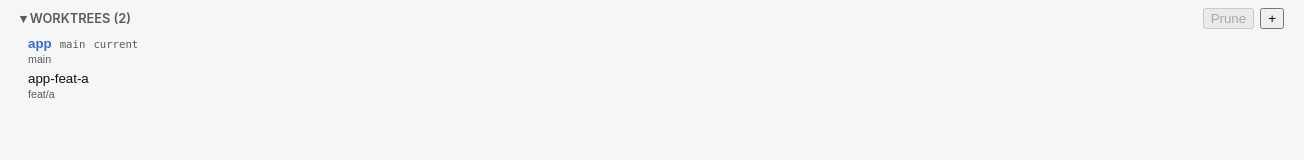
Test: WorktreesPanel open › should not open the current worktree and disable Open with Already open in this tab
Expected: the list named "Worktree list" is shown, [12, 33, 1292, 111]
Double-click the button "app main current main" at {"x": 116, "y": 44}, box [12, 33, 1292, 68]
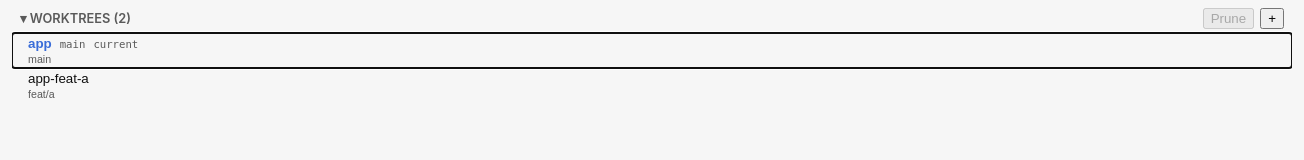
Press Enter in the button "app main current main", box [12, 33, 1292, 68]
Right-click the button "app main current main" at {"x": 116, "y": 44}, box [12, 33, 1292, 68]
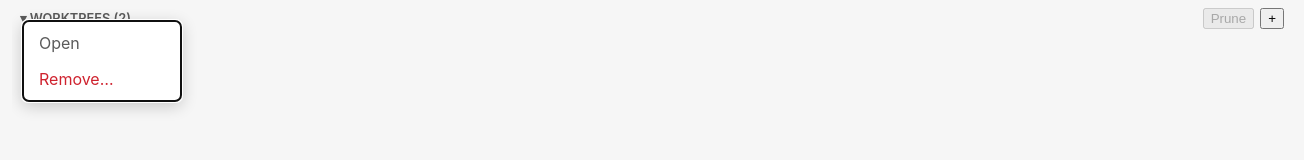
Expected: the menu item "Open" is disabled, [27, 25, 177, 61]
